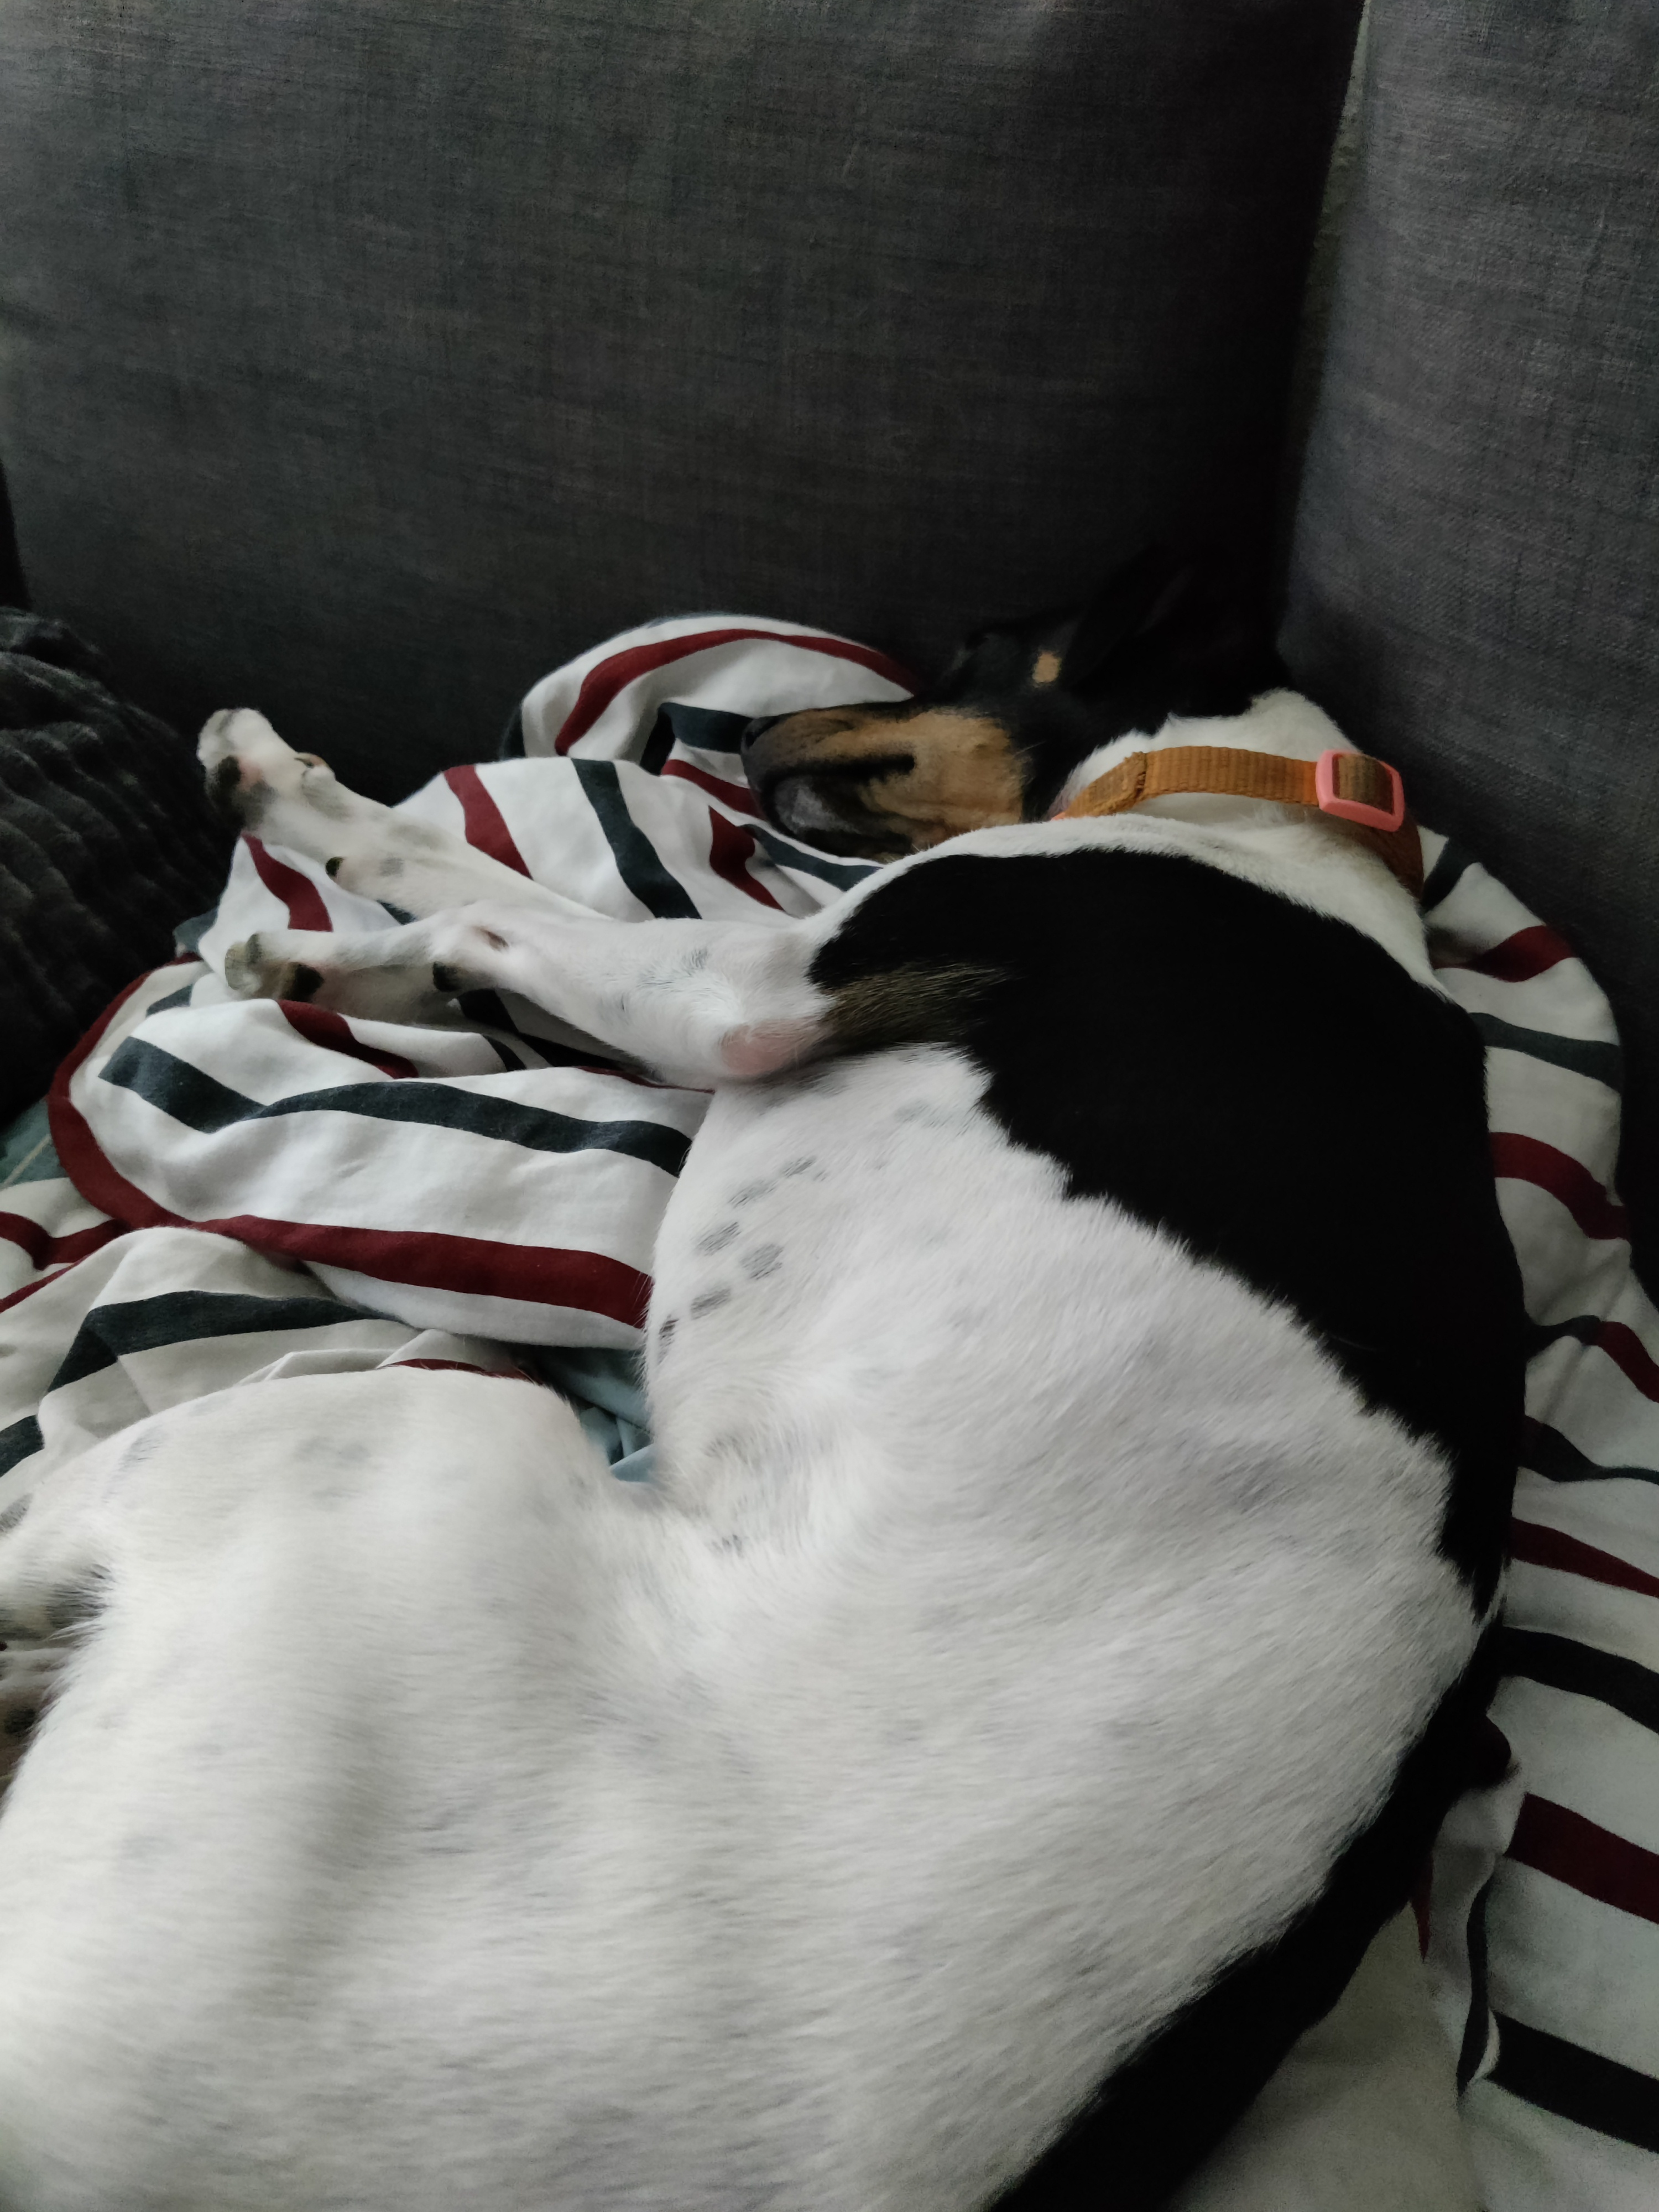Dog: (0, 512, 1547, 2212)
